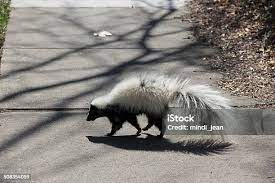skunk: (85, 72, 167, 140)
